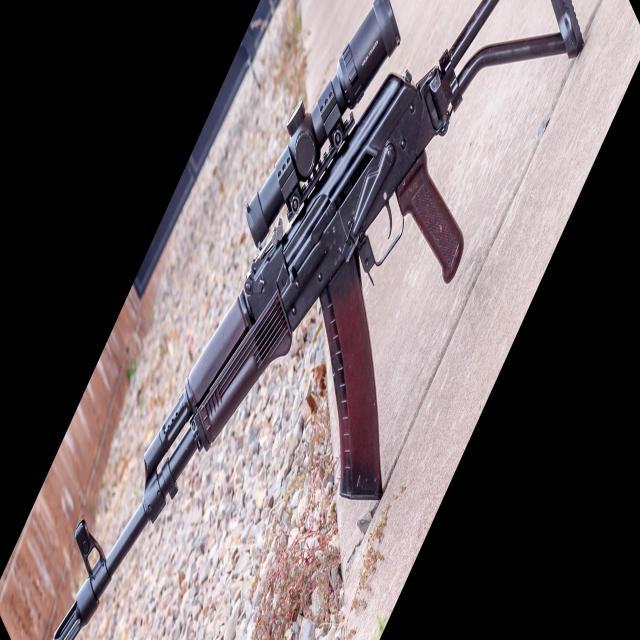weapon: (52, 1, 584, 640)
